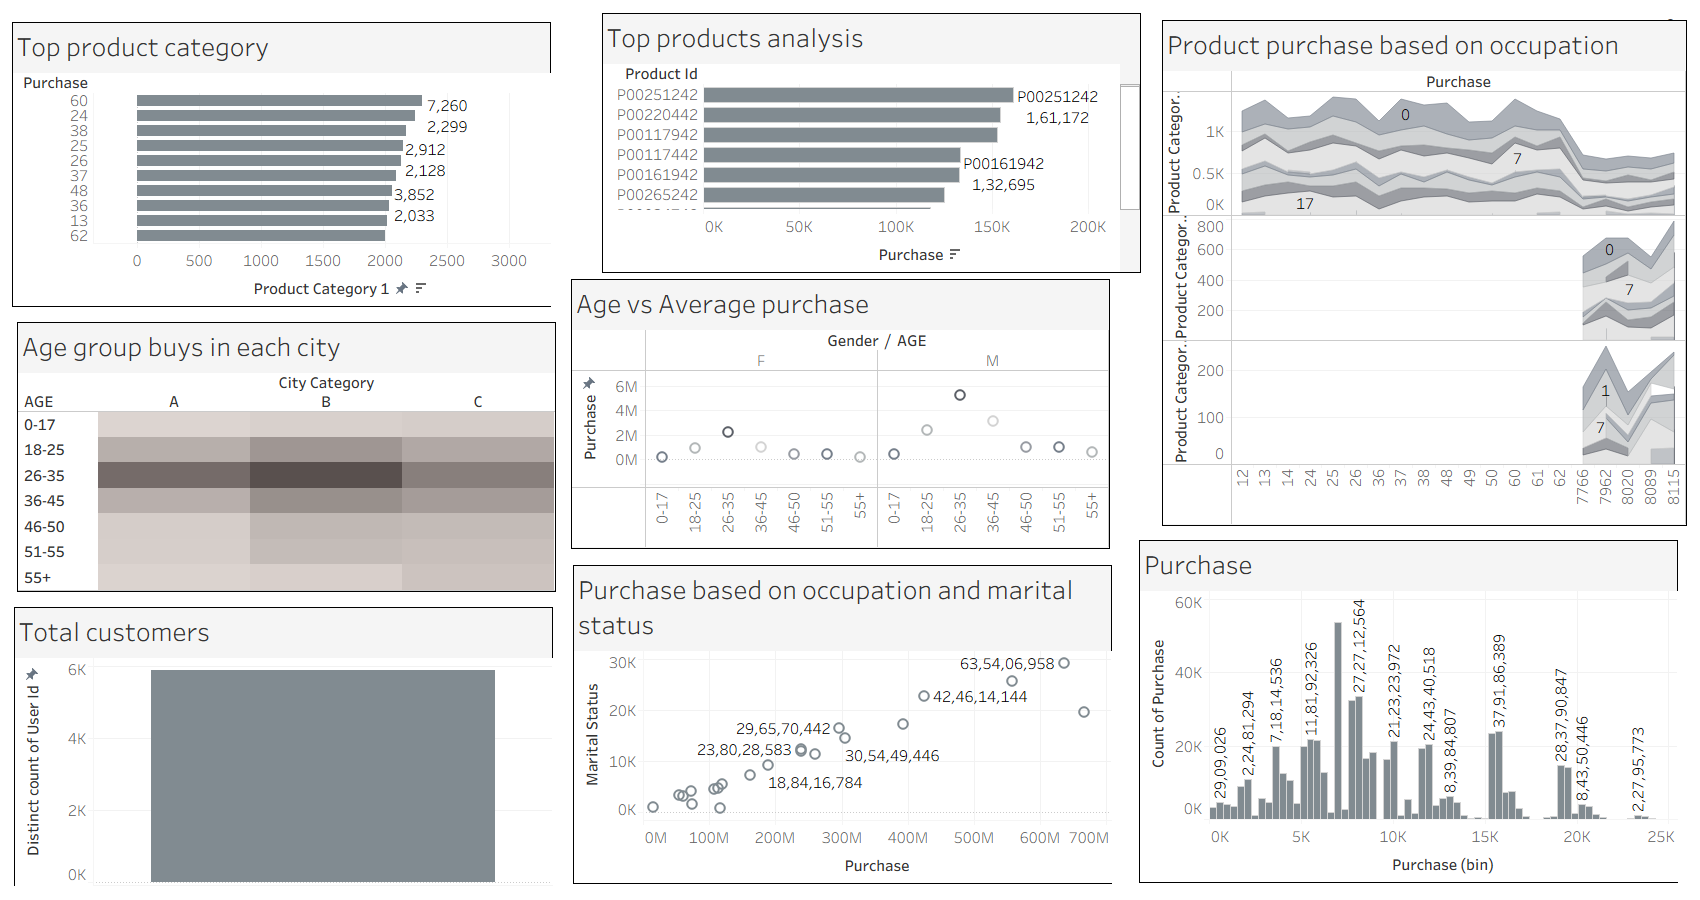

This screenshot's page, from the dashboard's own definition file:
{"tool":"tableau","page":{"name":"Dashboard 2","canvas":[1700,900],"ordinal":1},"visuals":[{"type":"legend","title":"Product purchase based on occupation","param":"[federated.0ddsy760kw4q361a42otg0qjiz3w].[none:OCCUPATION:ok]","box":[1660,8,32,240]},{"type":"worksheet","title":"Top products analysis","mark":"Automatic","rows":["PRODUCT_ID"],"cols":["PURCHASE"],"box":[598,9,547,268]},{"type":"worksheet","title":"Product purchase based on occupation","mark":"Area","rows":["PRODUCT_CATEGORY_1","PRODUCT_CATEGORY_2","PRODUCT_CATEGORY_3"],"cols":["PURCHASE"],"box":[1158,16,533,514]},{"type":"worksheet","title":"Top product category","mark":"Automatic","rows":["PURCHASE"],"cols":["PRODUCT_CATEGORY_1"],"box":[8,18,547,292.9]},{"type":"worksheet","title":"Age vs Average purchase","mark":"Shape","rows":["PURCHASE"],"cols":["GENDER","AGE"],"box":[567,275,547,278]},{"type":"worksheet","title":"Age group buys in each city","mark":"Automatic","rows":["AGE"],"cols":["CITY_CATEGORY"],"box":[13,318,547,277.9]},{"type":"worksheet","title":"Purchase","mark":"Automatic","rows":["PURCHASE"],"cols":["Purchase (bin)"],"box":[1135,536,547,351]},{"type":"worksheet","title":"Purchase based on occupation and marital status","mark":"Automatic","rows":["MARITAL_STATUS"],"cols":["PURCHASE"],"box":[569,561,547,327]},{"type":"worksheet","title":"Total customers","mark":"Automatic","rows":["USER_ID"],"box":[10,603,547,287]}]}

Visuals, with their boxes in screenshot pixels (x1, y1, x2, y2), scaled from the page's 1700x900 canvas onto the 1700x900 screenshot:
"Product purchase based on occupation" legend: bbox=[1660, 8, 1692, 248]
"Top products analysis" worksheet: bbox=[598, 9, 1145, 277]
"Product purchase based on occupation" worksheet (Area marks): bbox=[1158, 16, 1691, 530]
"Top product category" worksheet: bbox=[8, 18, 555, 311]
"Age vs Average purchase" worksheet (Shape marks): bbox=[567, 275, 1114, 553]
"Age group buys in each city" worksheet: bbox=[13, 318, 560, 596]
"Purchase" worksheet: bbox=[1135, 536, 1682, 887]
"Purchase based on occupation and marital status" worksheet: bbox=[569, 561, 1116, 888]
"Total customers" worksheet: bbox=[10, 603, 557, 890]
